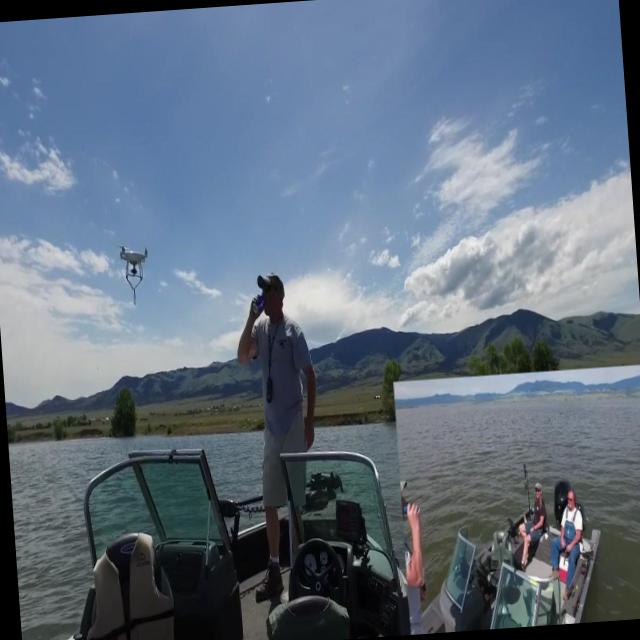drone: (116, 241, 154, 307)
